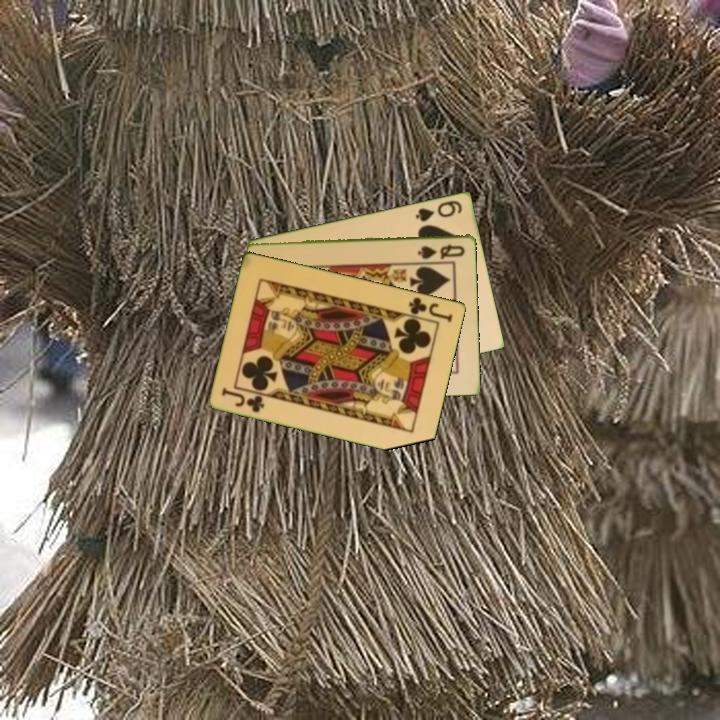6s: (412, 196, 465, 224)
Jc: (405, 293, 456, 325), (218, 384, 268, 415)
Qs: (415, 240, 468, 261)
